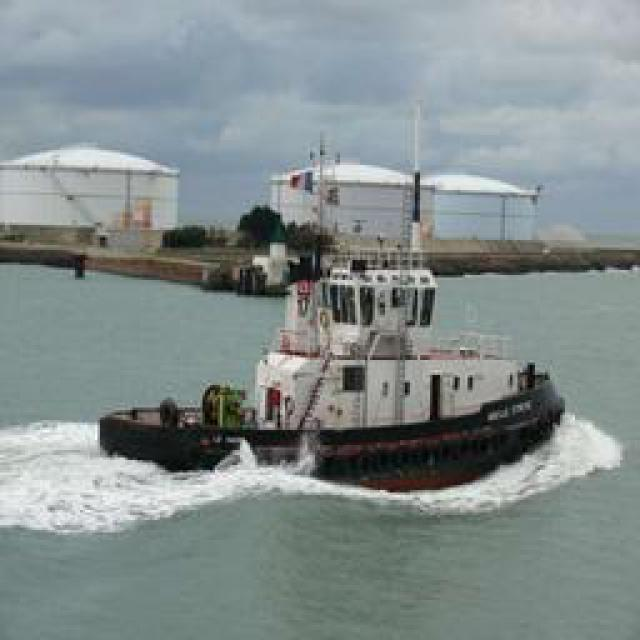Ship: (124, 180, 567, 498)
